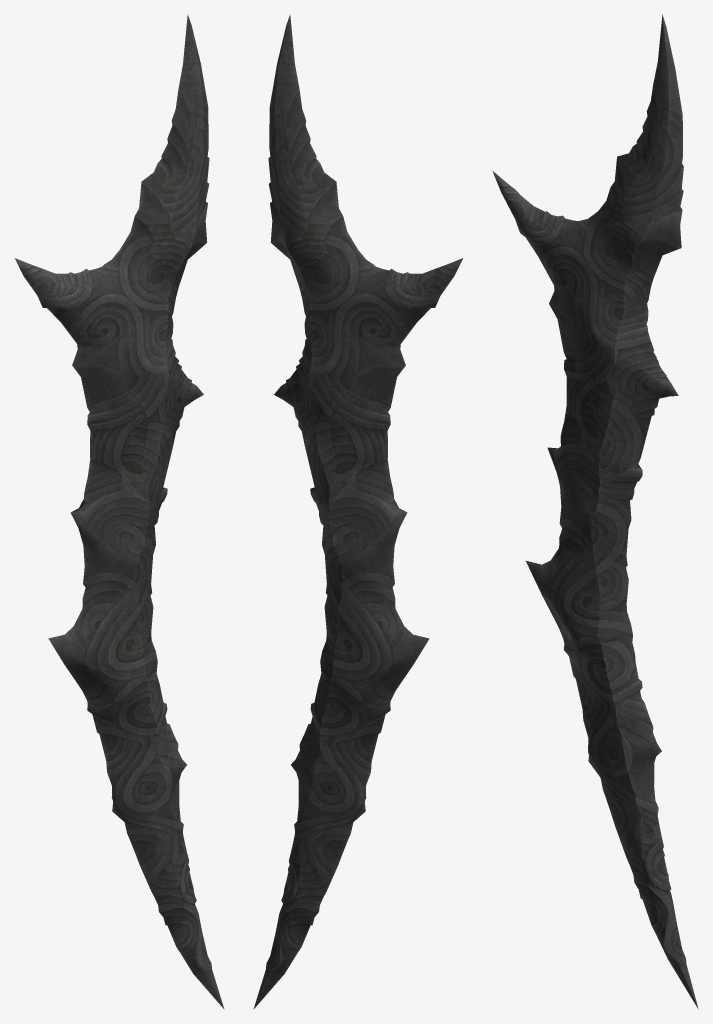
The model's file is bg_rad_kamen_pillar03_sm_csw.obj.
3 views of the same model, side by side, from view 1: azimuth 30°, elevation 25°; view 2: azimuth 150°, elevation 25°; view 3: azimuth 330°, elevation 25° (orthographic).
Parts seen in each view (by area): view 1: bg_rad_kamen_pillar03_sm_csw_0; view 2: bg_rad_kamen_pillar03_sm_csw_0; view 3: bg_rad_kamen_pillar03_sm_csw_0.
Boxes of the visible parts, x1,y1,x2,y2 form: bg_rad_kamen_pillar03_sm_csw_0: [14, 14, 224, 1009]; bg_rad_kamen_pillar03_sm_csw_0: [253, 14, 463, 1009]; bg_rad_kamen_pillar03_sm_csw_0: [492, 14, 698, 1009].
Size of the model in its own units: 0.9383 by 4.28 by 0.2277.
Materials: 1 (1 with a texture image).
